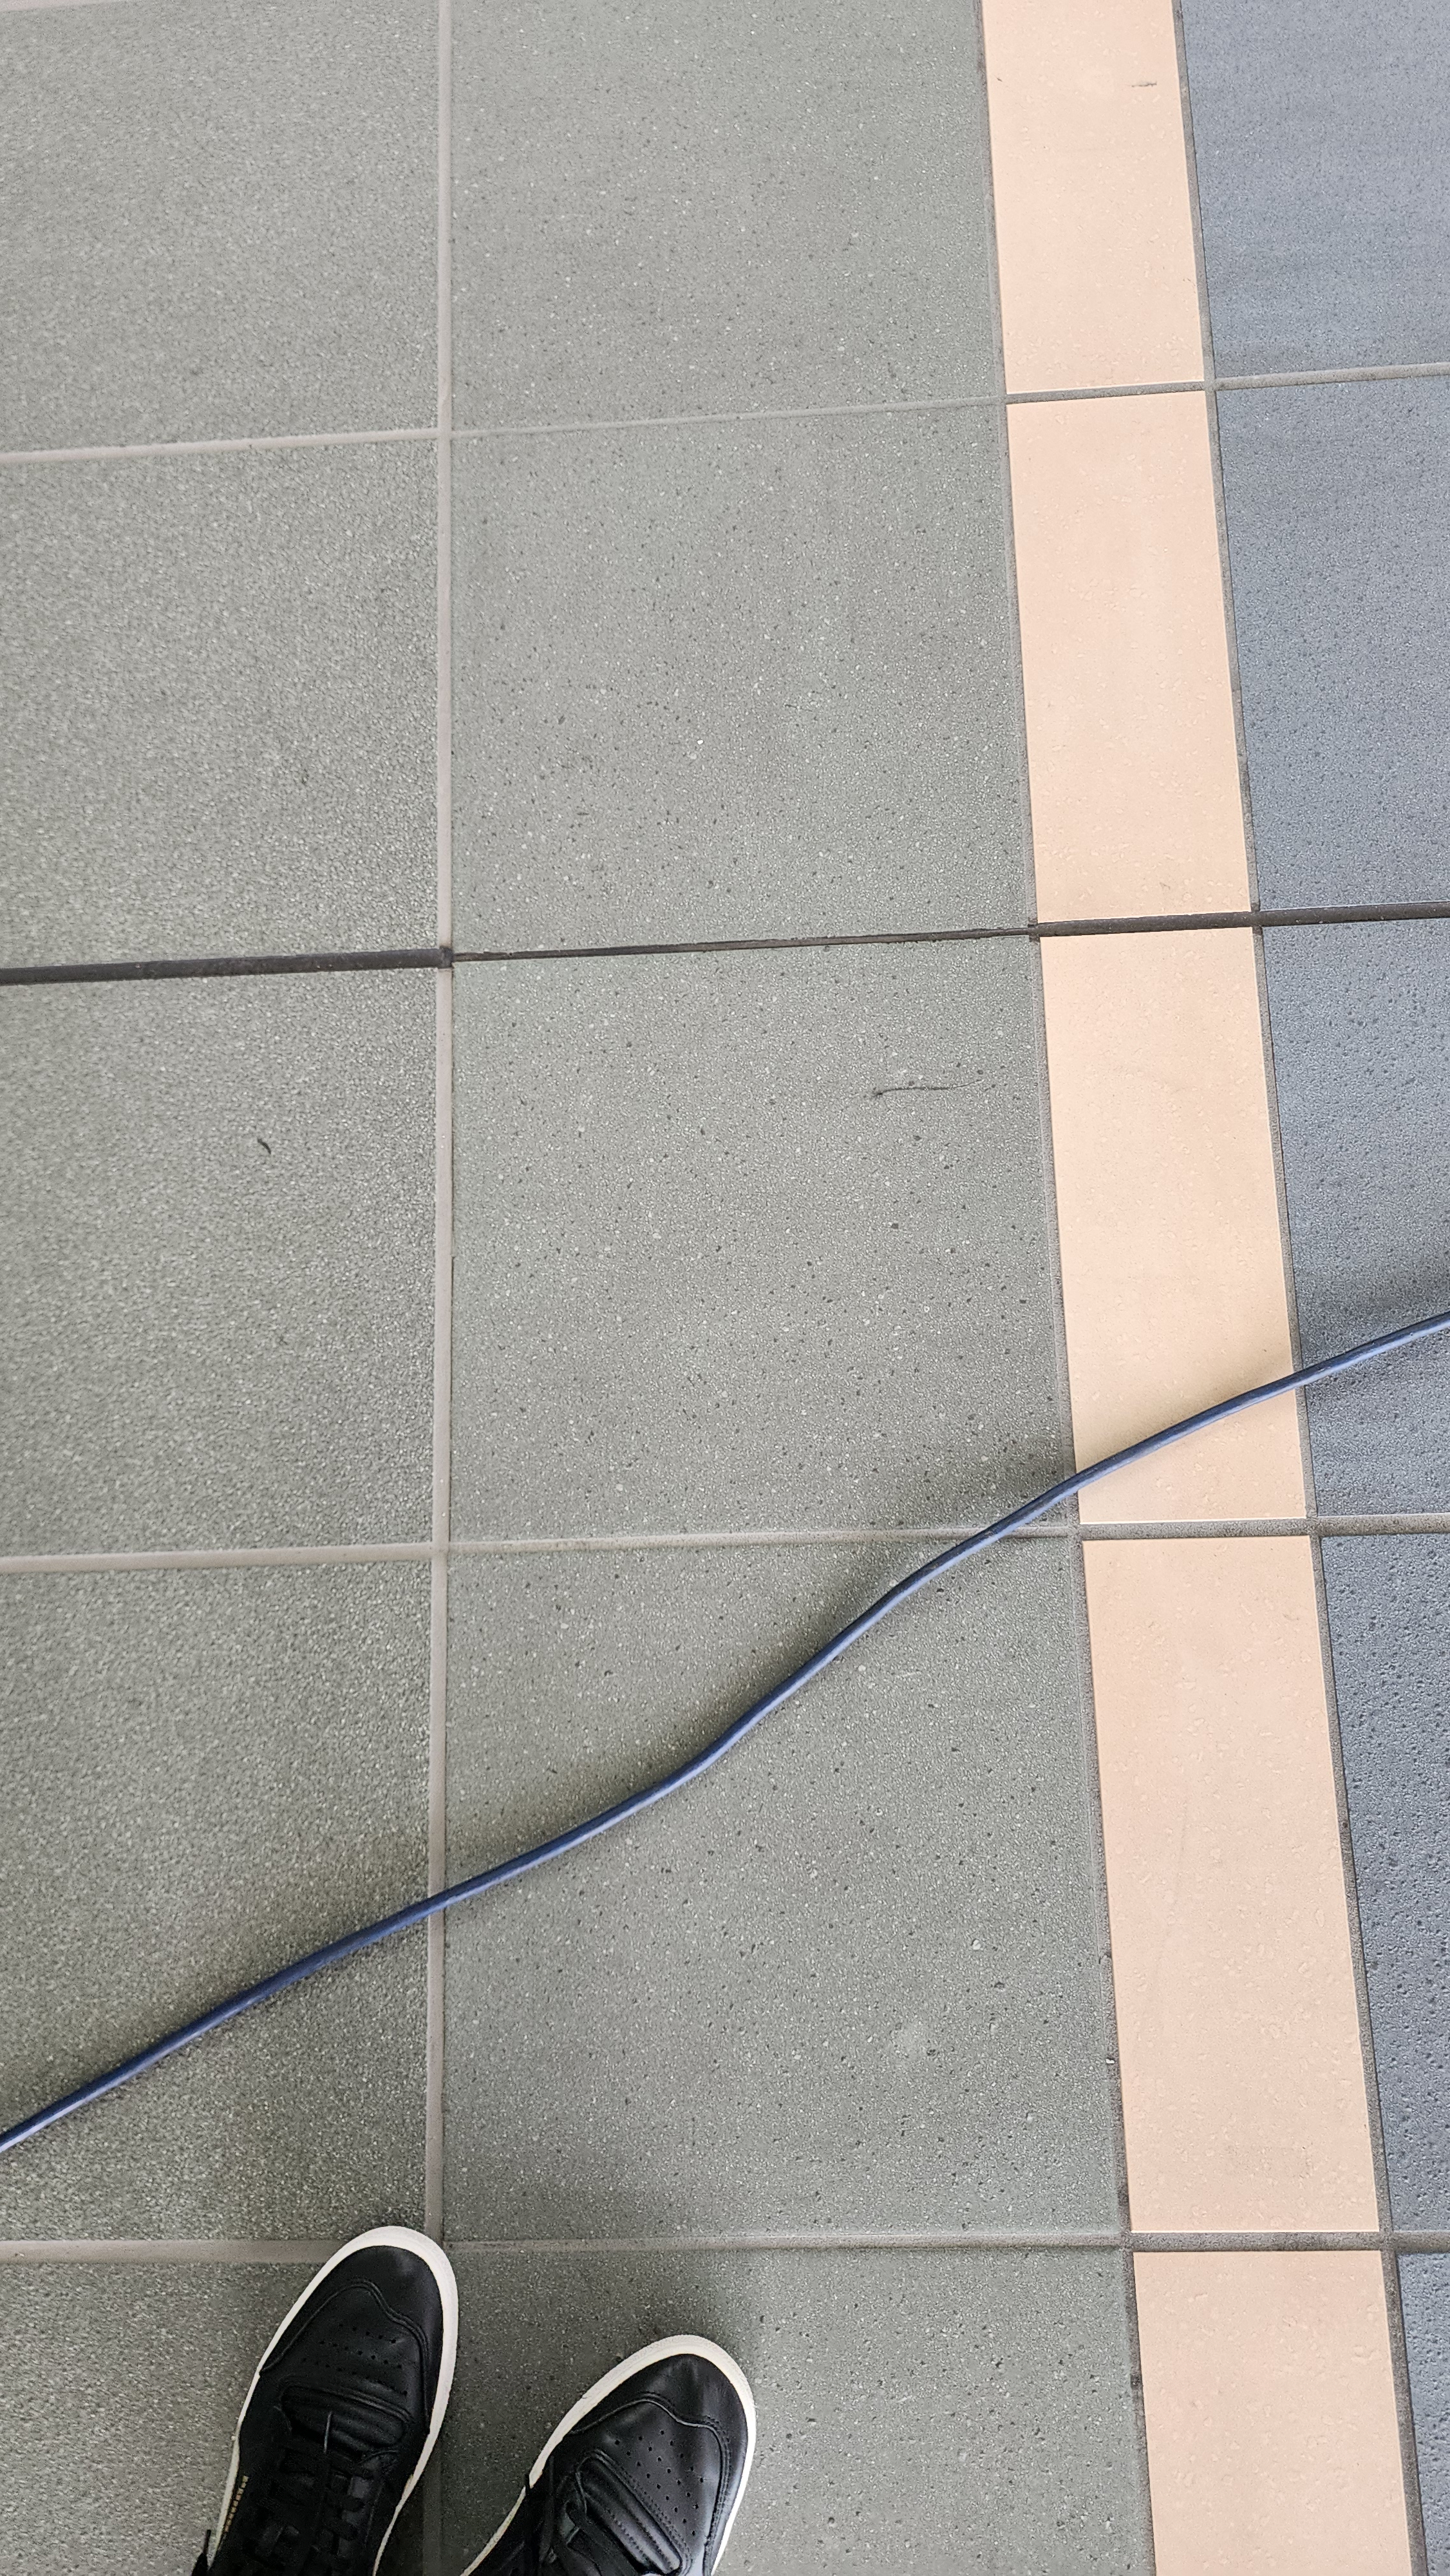Defect: (39, 936, 470, 996), (1027, 901, 1436, 948)
